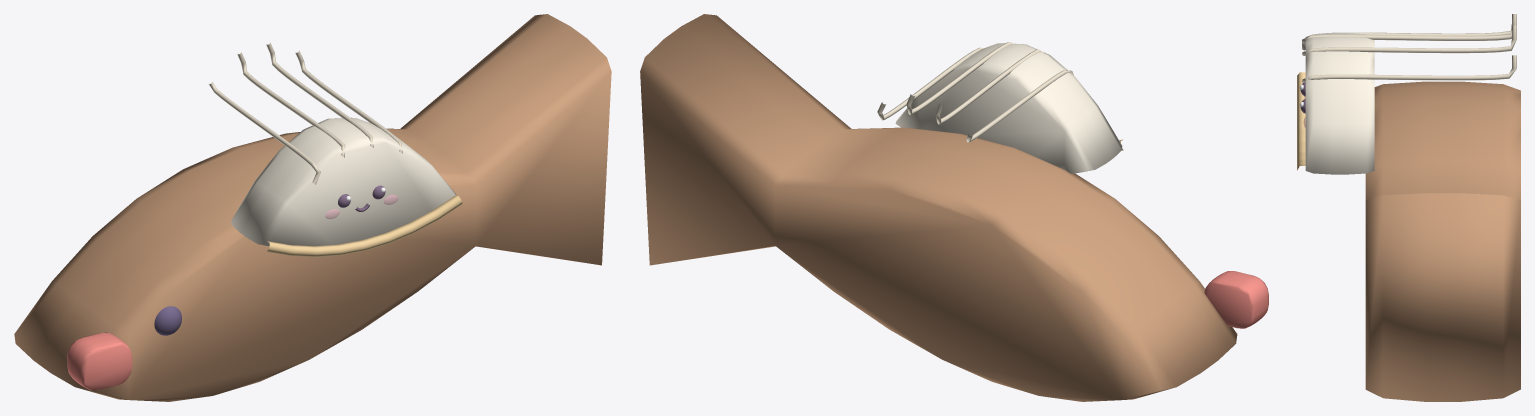
File: decor_5_classic.glb
3 renders of one model, left to right at view 1: azimuth 30°, elevation 25°; view 2: azimuth 150°, elevation 25°; view 3: azimuth 270°, elevation 25°, orthographic.
Visible parts, largest first — view 1: decor_5_classic; view 2: decor_5_classic; view 3: decor_5_classic.
Part boxes in pixels (box(x1,y1,x2,y2)): decor_5_classic: box(14, 14, 611, 401); decor_5_classic: box(640, 14, 1268, 401); decor_5_classic: box(1297, 14, 1520, 401).
Bounding box in the file's own units: 11.35 × 5.48 × 3.97.
